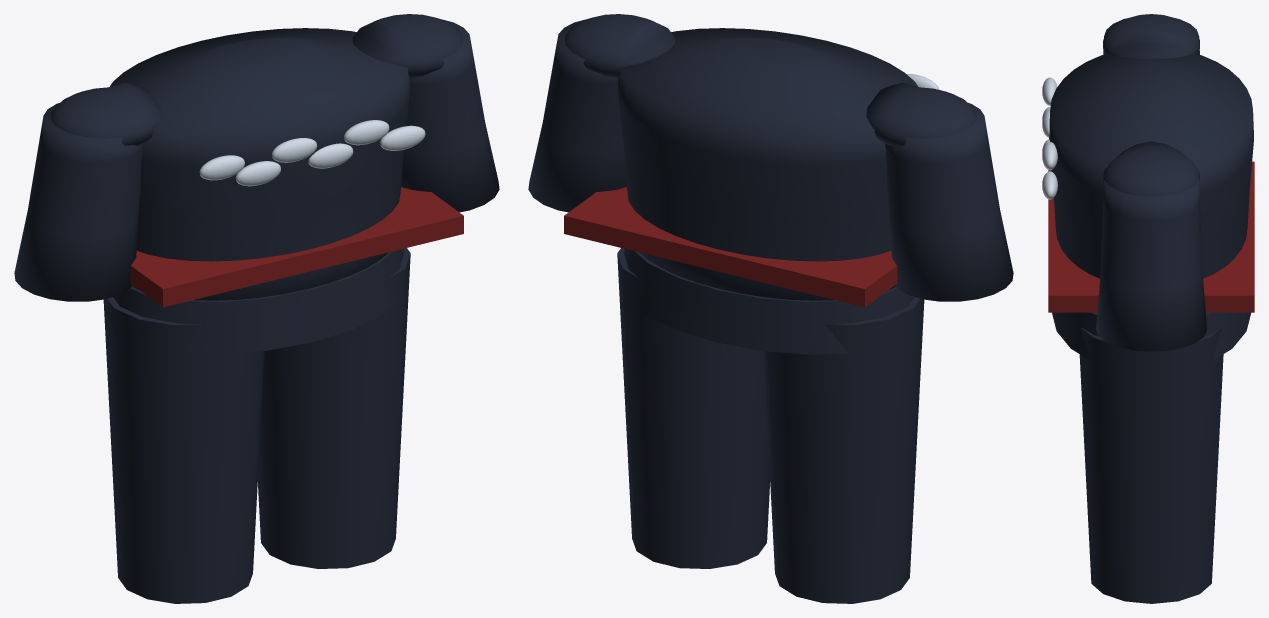
The model's file is suit_ancient_4.glb.
3 renders of one model, left to right at view 1: azimuth 30°, elevation 25°; view 2: azimuth 150°, elevation 25°; view 3: azimuth 270°, elevation 25°, orthographic. The views are drawn at different scales.
Bounding box in the file's own units: 0.6992 × 0.7164 × 0.3.
